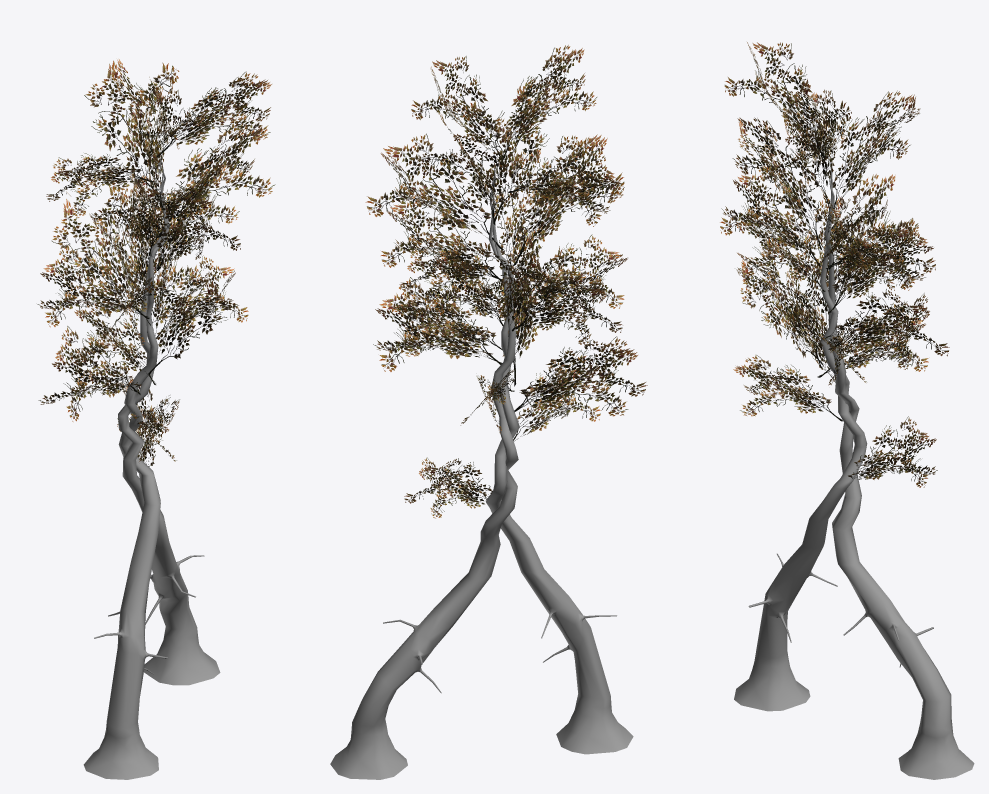
Rendered from lunntree_lod0.fbx.
3 views of the same model, side by side, from view 1: azimuth 30°, elevation 25°; view 2: azimuth 150°, elevation 25°; view 3: azimuth 270°, elevation 25° (orthographic).
Parts seen in each view (by area): view 1: Default_Layer; view 2: Default_Layer; view 3: Default_Layer.
Boxes of the visible parts, bbox=[...] form: Default_Layer: bbox=[37, 59, 275, 779]; Default_Layer: bbox=[330, 45, 647, 779]; Default_Layer: bbox=[720, 42, 974, 779].
Size of the model in its own units: 629 by 1428 by 503.
